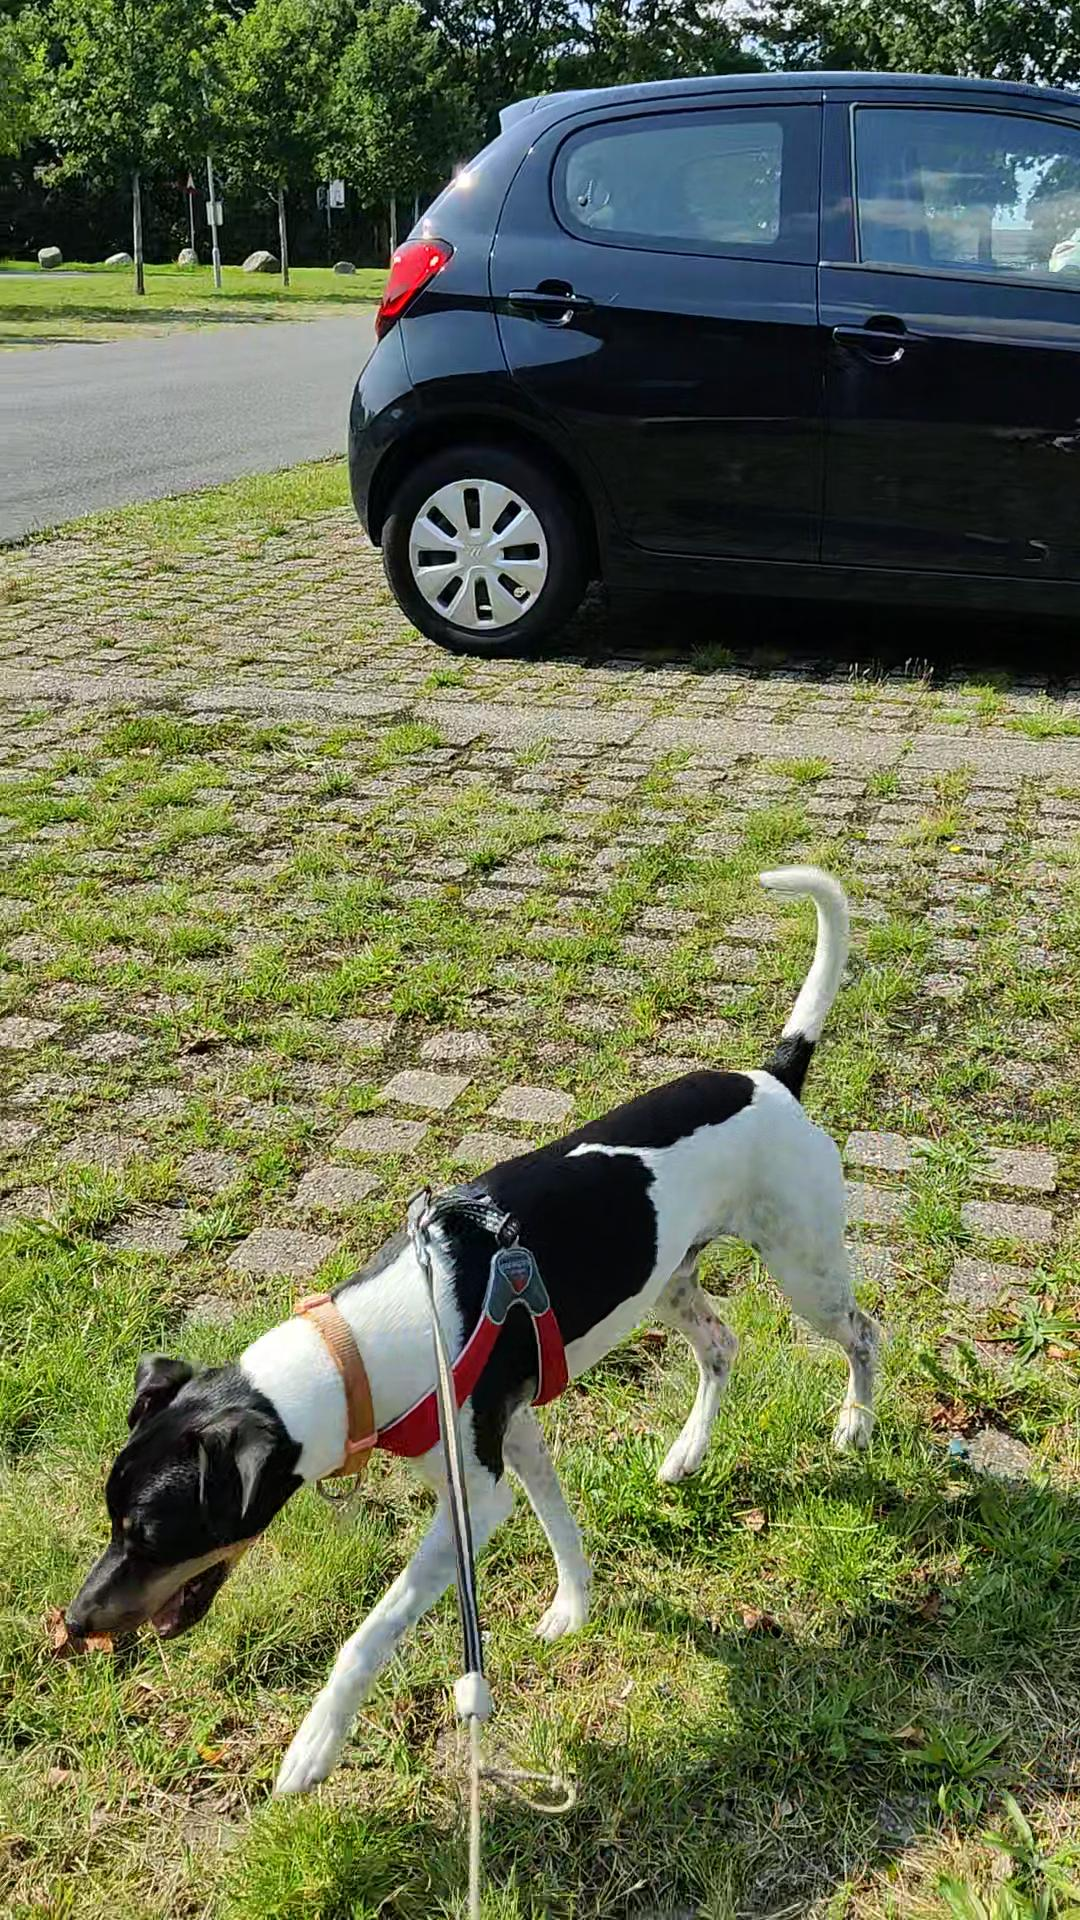Dog: (58, 848, 882, 1825)
